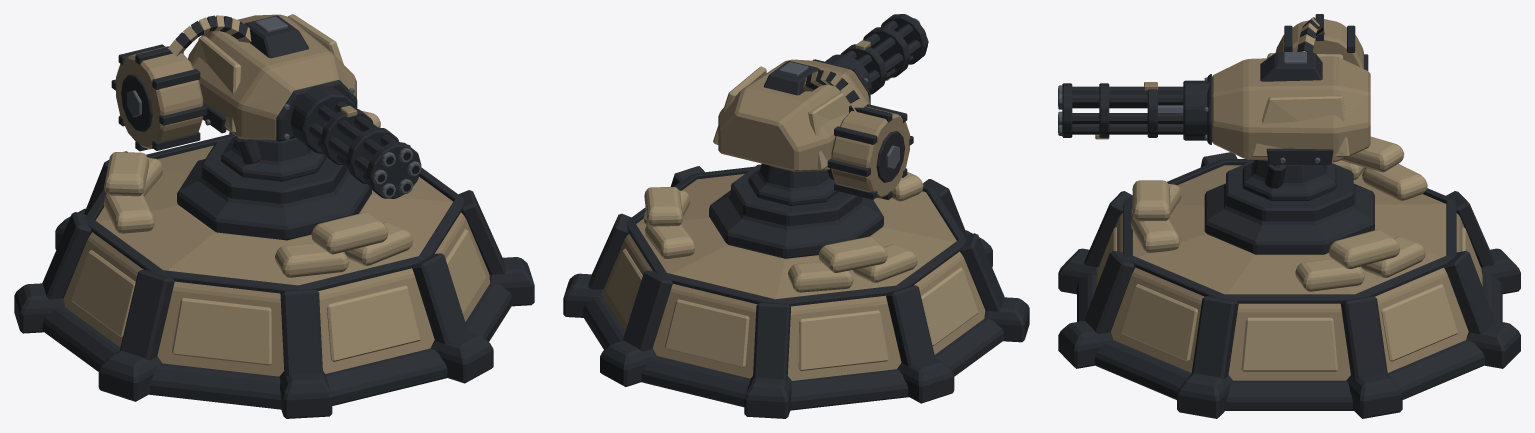
3 renders of one model, left to right at view 1: azimuth 30°, elevation 25°; view 2: azimuth 150°, elevation 25°; view 3: azimuth 270°, elevation 25°, orthographic. The views are drawn at different scales.
Parts seen in each view (by area): view 1: casco, gun_pitch, rotor, turret_yaw; view 2: casco, gun_pitch, rotor, turret_yaw; view 3: casco, gun_pitch, rotor, turret_yaw.
Part boxes in pixels (x1,y1,x2,y2): casco: (14,111,534,418); gun_pitch: (111,14,357,153); rotor: (309,101,421,198); turret_yaw: (221,136,326,181); casco: (563,164,1029,418); gun_pitch: (713,54,913,199); rotor: (840,14,928,94); turret_yaw: (748,163,838,205); casco: (1058,136,1520,418); gun_pitch: (1183,14,1370,164); rotor: (1058,82,1183,139); turret_yaw: (1242,160,1336,200).
Size of the model in its own units: 1 by 0.6643 by 1.
